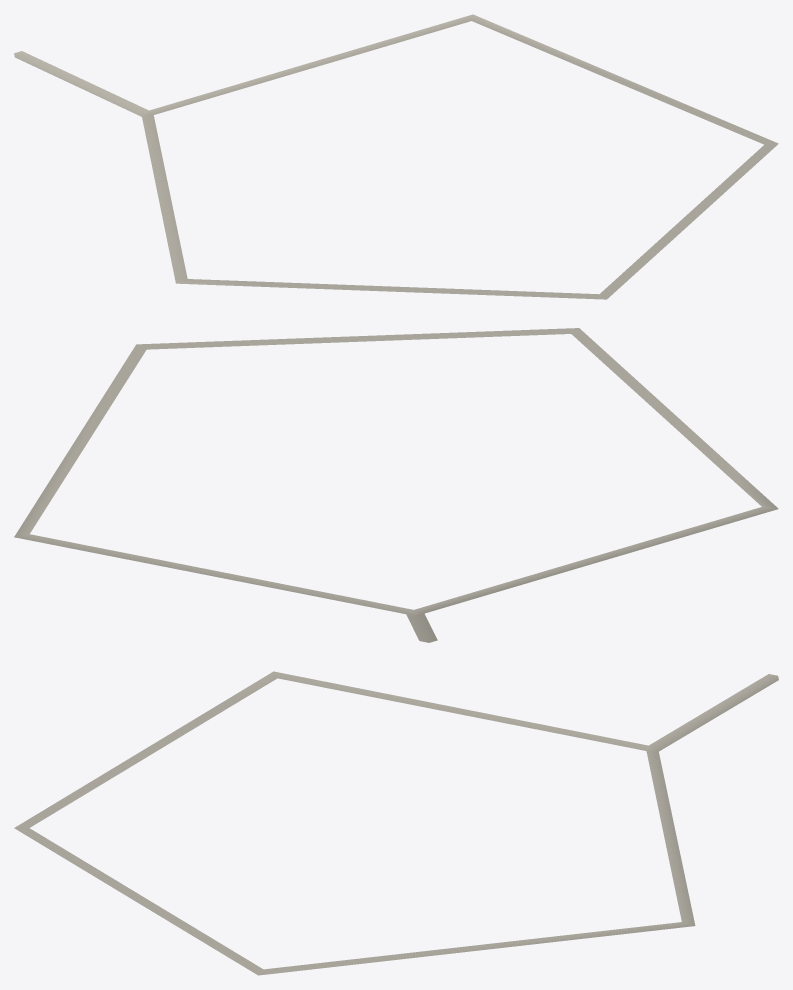
The model's file is kd_stage_135fe0_4_67.glb.
3 renders of one model, top to bottom at view 1: azimuth 30°, elevation 25°; view 2: azimuth 150°, elevation 25°; view 3: azimuth 270°, elevation 25°, orthographic. The views are drawn at different scales.
Visible parts, largest first — view 1: kd_stage_135fe0_4_67; view 2: kd_stage_135fe0_4_67; view 3: kd_stage_135fe0_4_67.
Boxes of the visible parts, bbox=[...] form: kd_stage_135fe0_4_67: bbox=[14, 14, 778, 299]; kd_stage_135fe0_4_67: bbox=[14, 328, 778, 642]; kd_stage_135fe0_4_67: bbox=[14, 671, 778, 975].
Size of the model in its own units: 28.31 by 1.57 by 30.1.
1 material, 1 textured.
